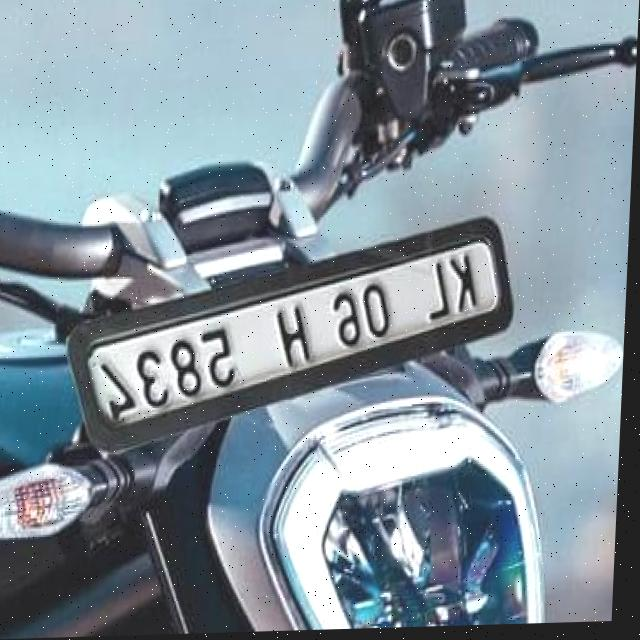plate: (67, 215, 521, 454)
